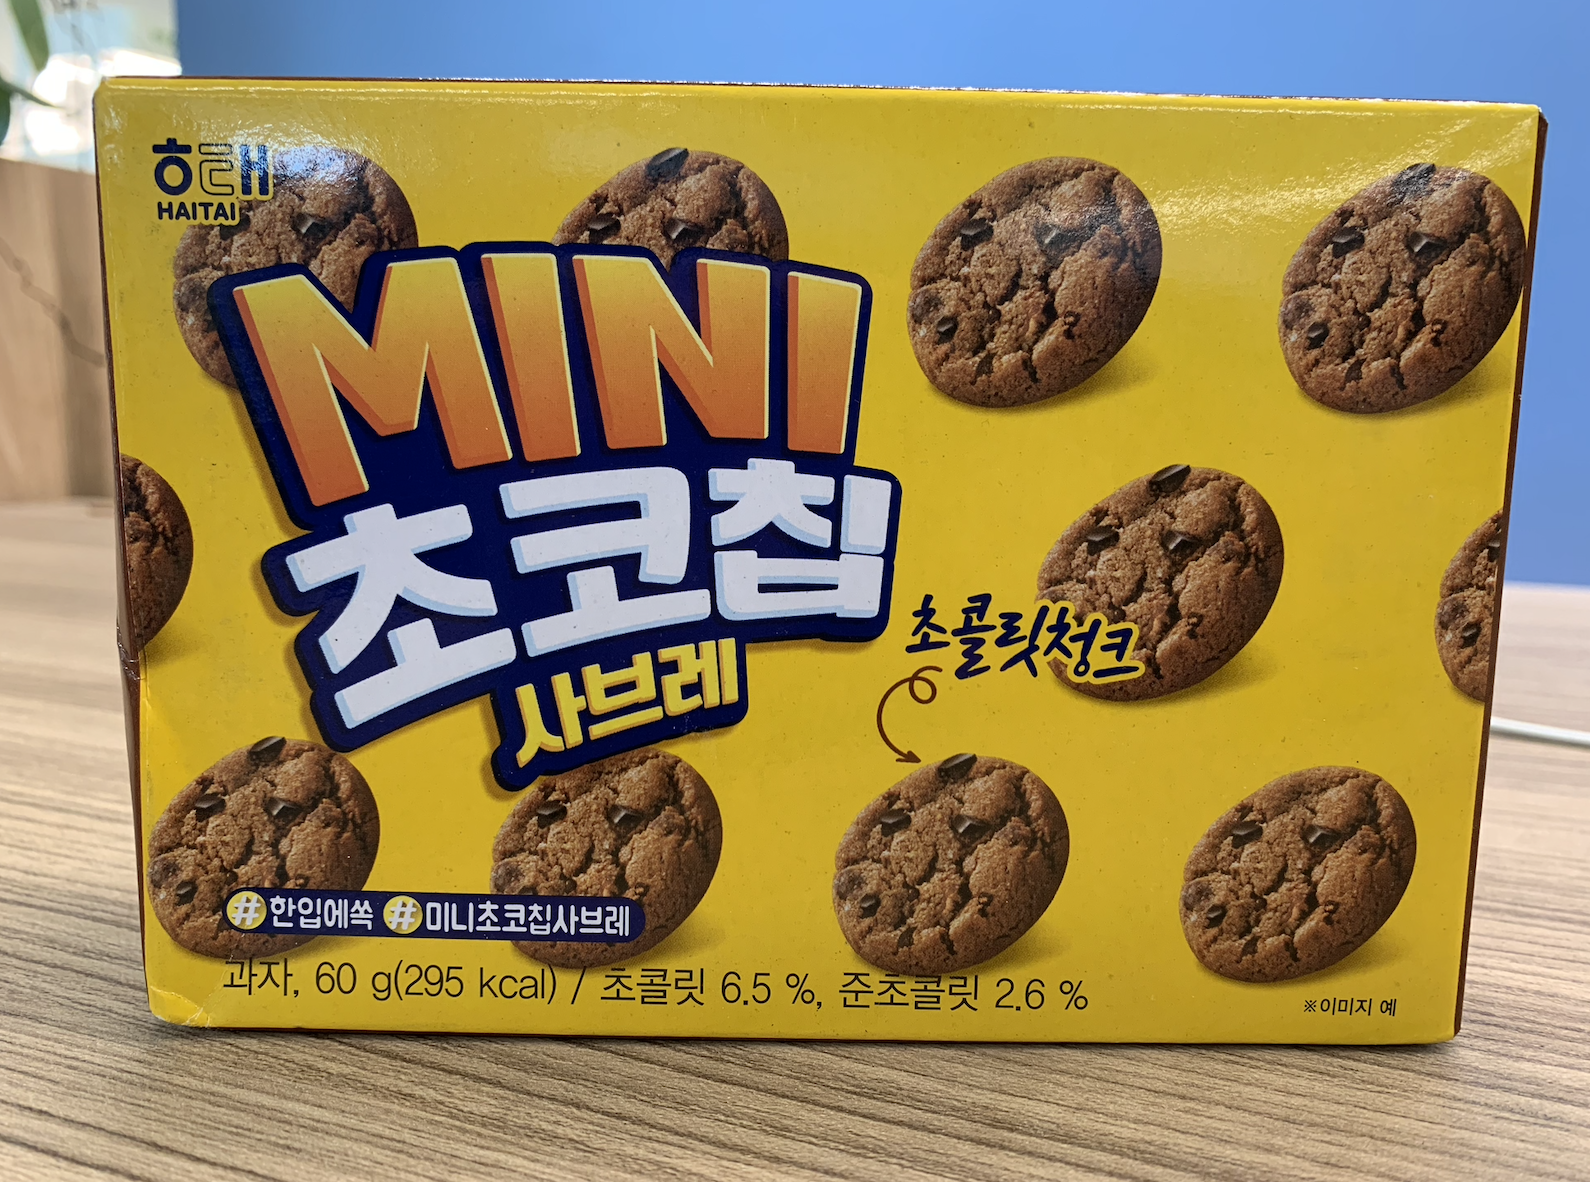cookies_1g-99g: (132, 88, 1449, 1035)
